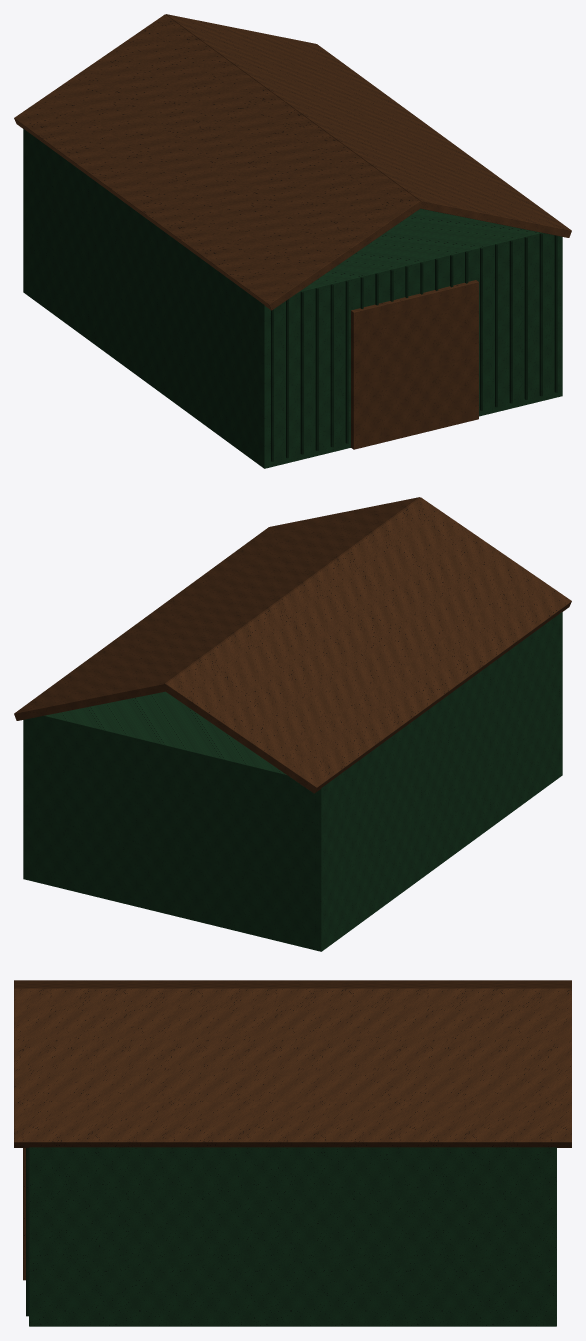
File: PROP-B2E2C8C2802A_lod1.glb
3 views of the same model, one above another, from view 1: azimuth 30°, elevation 25°; view 2: azimuth 150°, elevation 25°; view 3: azimuth 270°, elevation 25° (orthographic). The views are drawn at different scales.
Visible parts, largest first — view 1: barn_roof.001, barn_walls.001, barn_door.001, siding_battens.001; view 2: barn_walls.001, barn_roof.001; view 3: barn_walls.001, barn_roof.001, siding_battens.001.
Boxes of the visible parts, box(x1,y1,x2,y2) form: barn_roof.001: box(14, 14, 571, 310); barn_walls.001: box(23, 129, 562, 468); barn_door.001: box(351, 280, 478, 449); siding_battens.001: box(271, 233, 557, 461); barn_walls.001: box(23, 612, 562, 951); barn_roof.001: box(14, 497, 571, 793); barn_walls.001: box(29, 1147, 556, 1326); barn_roof.001: box(14, 980, 571, 1147); siding_battens.001: box(26, 1148, 28, 1316).
Bounding box in the file's own units: 5.08 × 3.79 × 7.4.
Materials: 3 (3 with a texture image).
